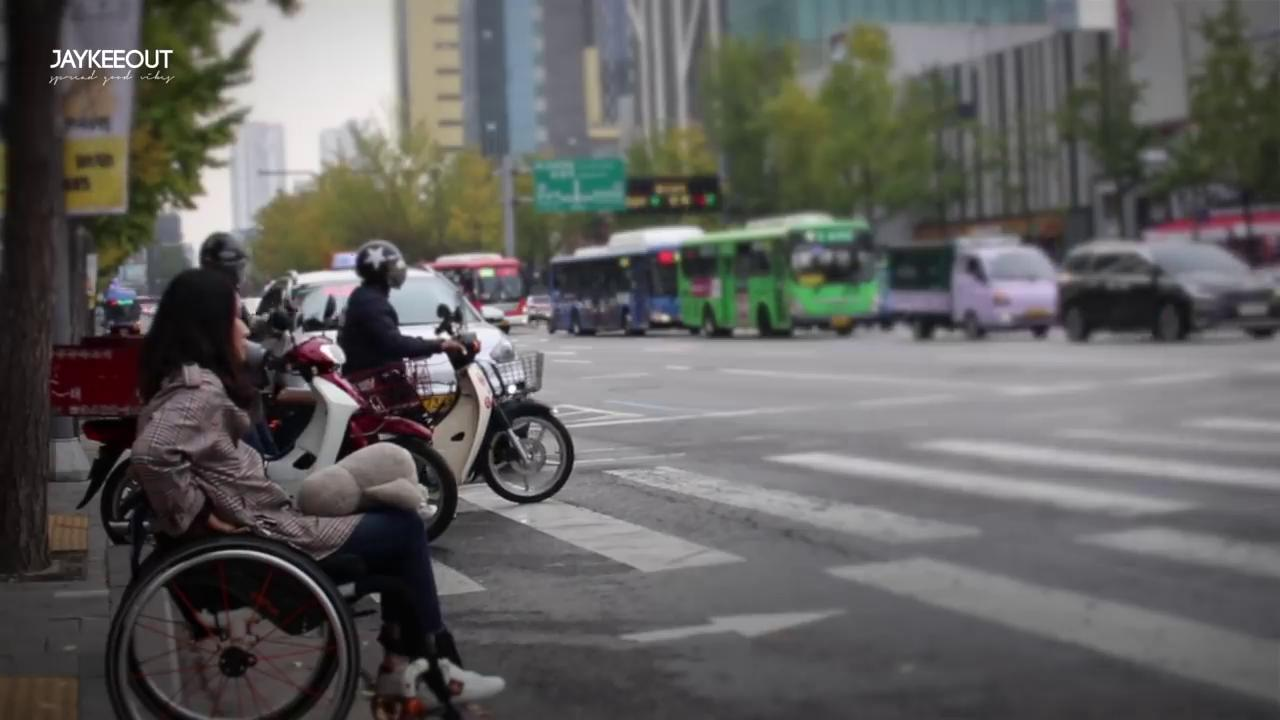wheelchair: (106, 269, 504, 719)
